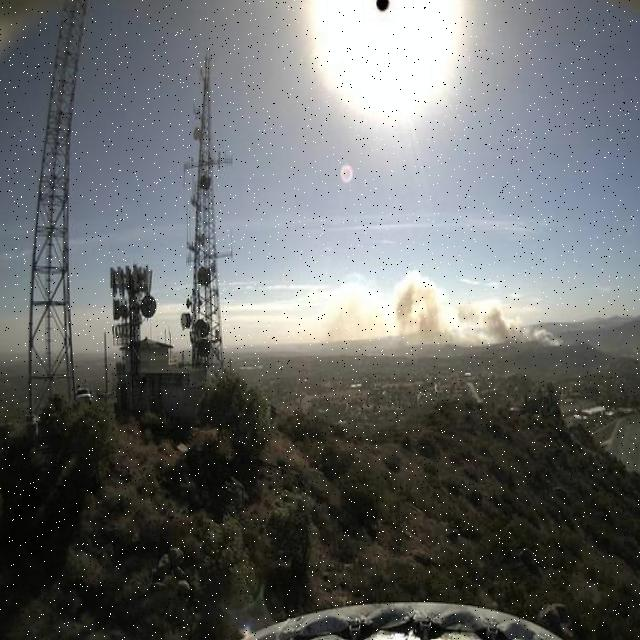smoke: (313, 263, 565, 352)
